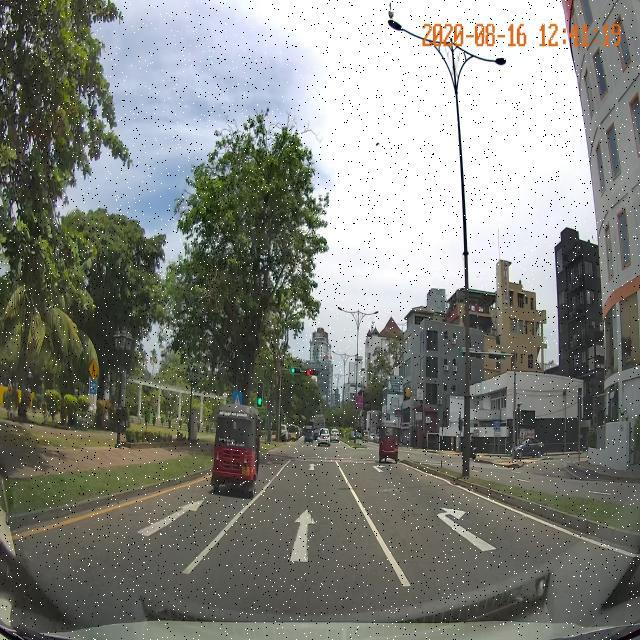forward: (186, 508, 406, 578)
